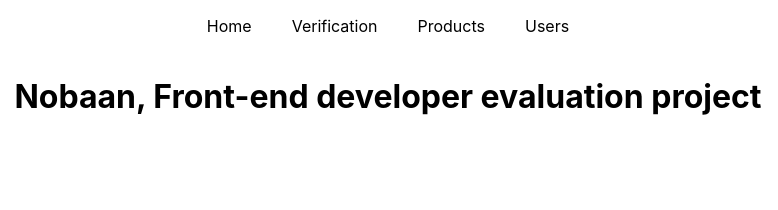
routing spec › should navigate to /verification url and mount verification component when click on verification nav button
Click the link with test id "verification-nav-button" at [335, 26], box top-left (292, 16), bottom-right (378, 36)
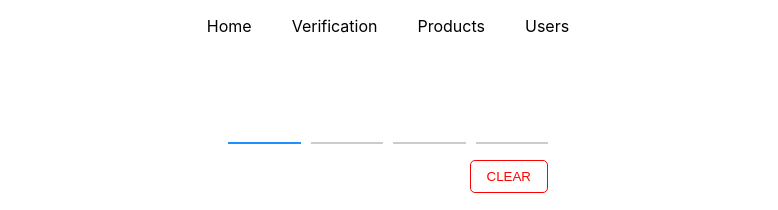
expect the element showing "CLEAR" is shown: met, box top-left (228, 92), bottom-right (548, 193)
